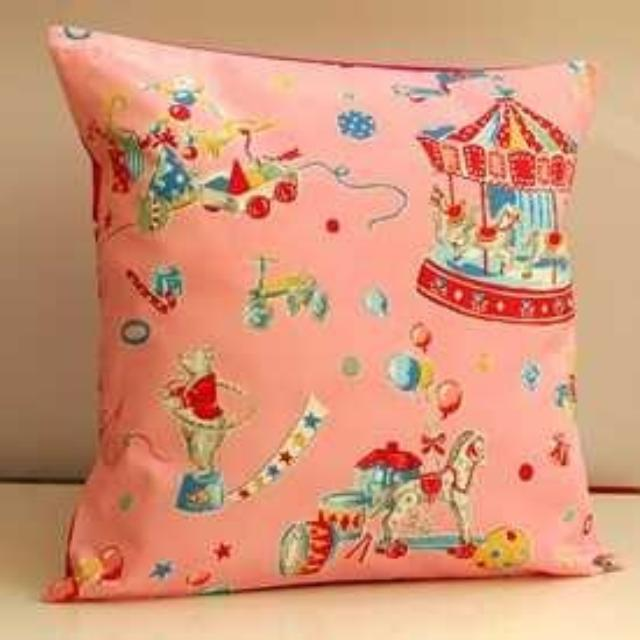pillow: (38, 21, 616, 602)
